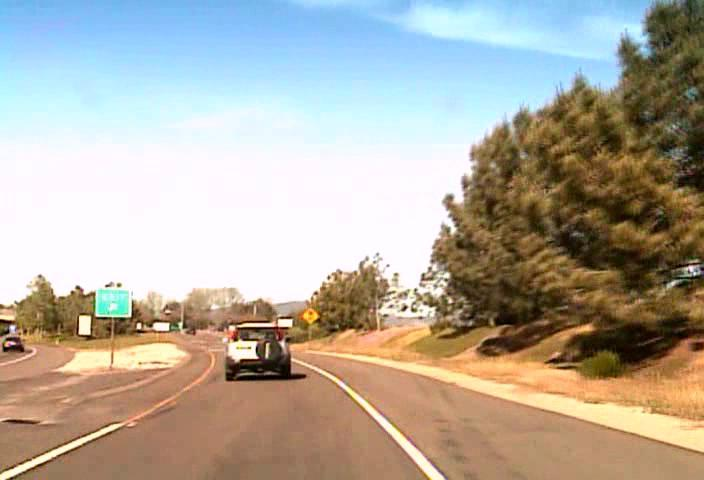signalAhead: (300, 307, 319, 324)
